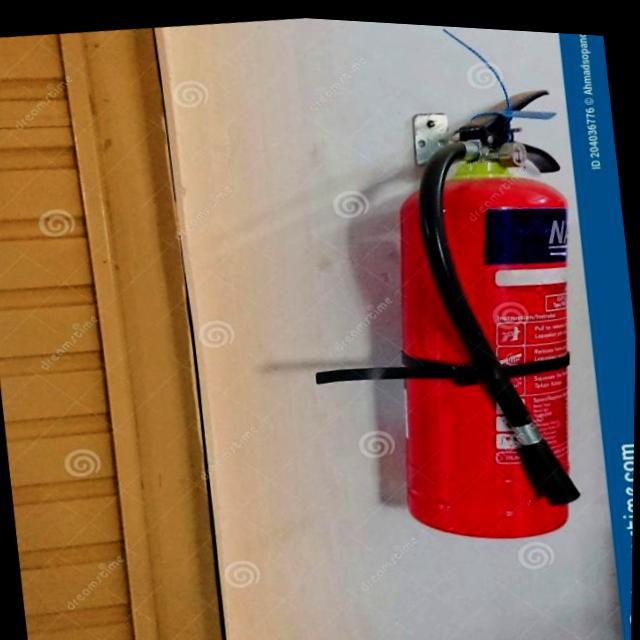FireExtinguisher: (349, 58, 621, 559)
